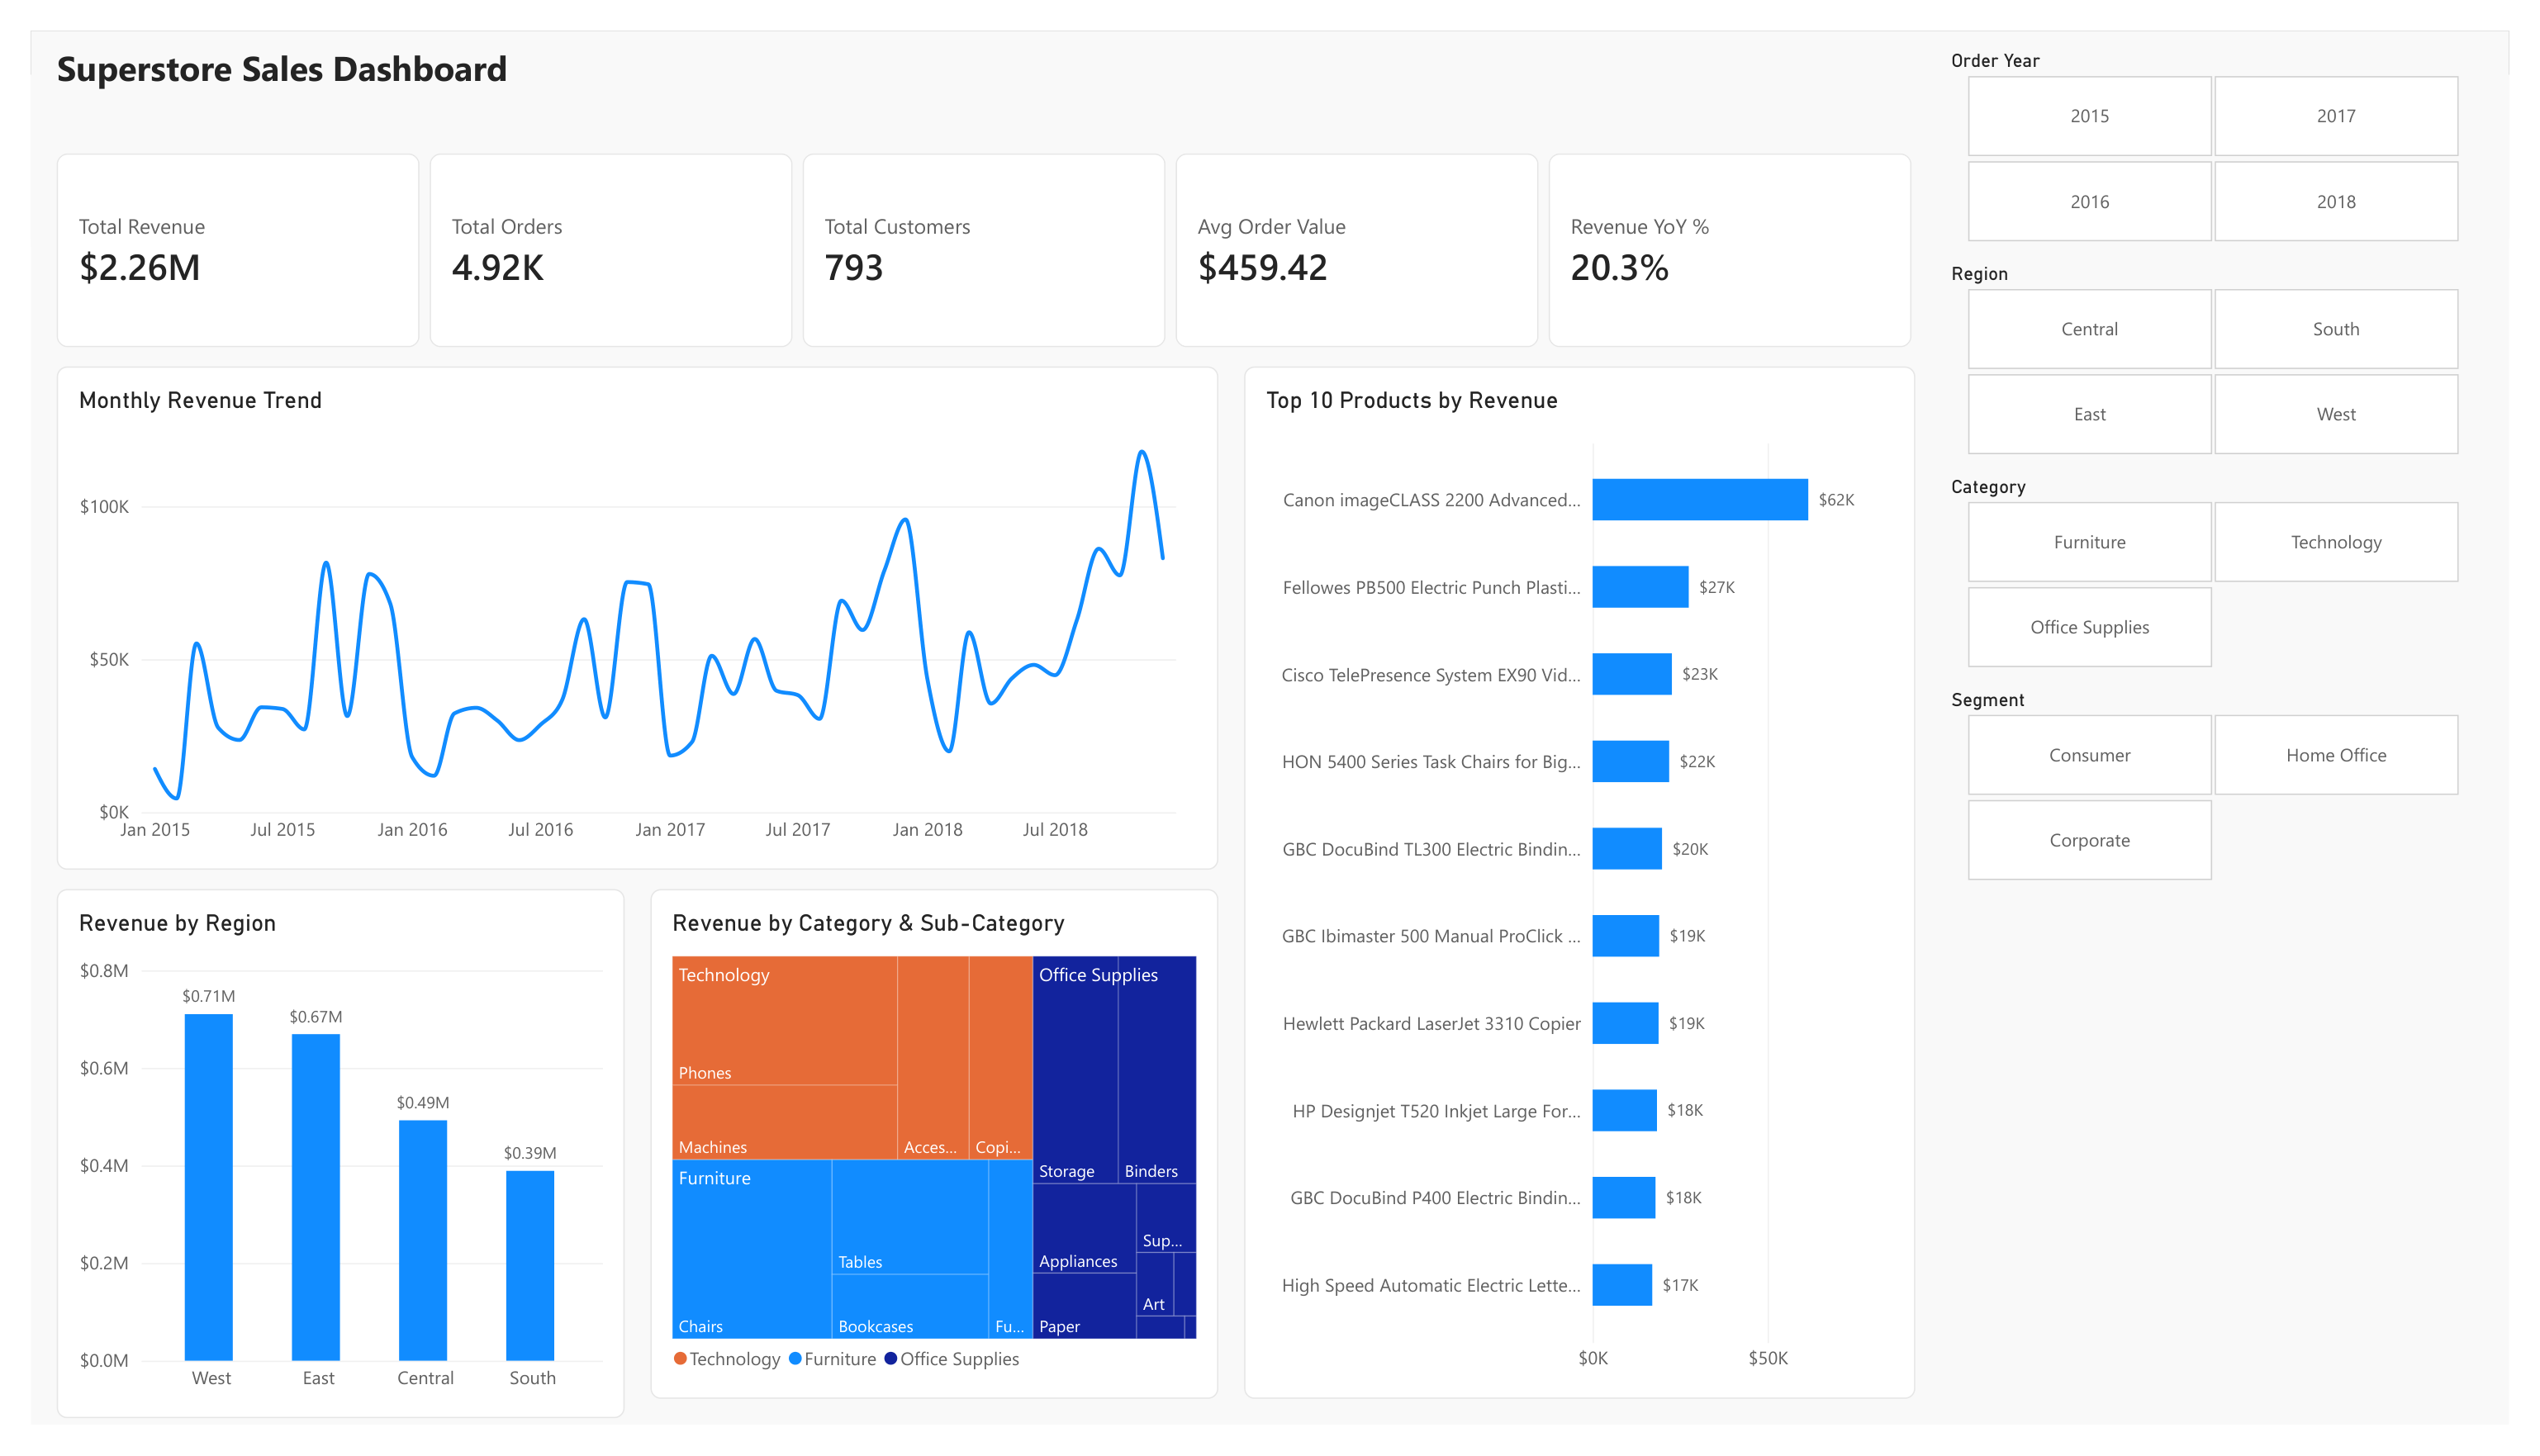

Layout of this report page (visuals, bound fields, positions):
{"tool":"powerbi","page":{"name":"Page 1","canvas":[1920,1080],"ordinal":0},"visuals":[{"type":"cardVisual","fields":{"Data":["Sales.Total Revenue","Sales.Total Orders","Sales.Total Customers","Sales.Avg Order Value","Sales.Revenue YoY %"]},"box":[20,95,1440,150],"z":0},{"type":"slicer","fields":{"Values":["Sales.Order Year"]},"box":[1480,15,420,150],"z":1000},{"type":"slicer","fields":{"Values":["Sales.Region"]},"box":[1480,180,420,150],"z":2000},{"type":"slicer","fields":{"Values":["Sales.Category"]},"box":[1480,345,420,150],"z":3000},{"type":"slicer","fields":{"Values":["Sales.Segment"]},"box":[1480,510,420,150],"z":4000},{"type":"lineChart","title":"Monthly Revenue Trend","fields":{"Category":["Sales.Order Month"],"Y":["Sales.Total Revenue"]},"box":[20,260,900,390],"z":5000},{"type":"clusteredBarChart","title":"Top 10 Products by Revenue","fields":{"Category":["Sales.Product Name"],"Y":["Sales.Total Revenue"]},"box":[940,260,520,800],"z":6000},{"type":"clusteredColumnChart","title":"Revenue by Region","fields":{"Category":["Sales.Region"],"Y":["Sales.Total Revenue"]},"box":[20,665,440,410],"z":7000},{"type":"treemap","title":"Revenue by Category & Sub-Category","fields":{"Details":["Sales.Sub-Category"],"Group":["Sales.Category"],"Values":["Sales.Total Revenue"]},"box":[480,665,440,395],"z":7001},{"type":"textbox","box":[20,10,1440,75],"z":7002}]}

Visuals, with their boxes on the page's 1920x1080 design canvas (x1, y1, x2, y2). These are canvas units, not pixel positions in the 2540x1456 screenshot, which may show the page scaled, cropped or inside an application window:
cardVisual - Sales.Total Revenue x Sales.Total Orders: {"left": 20, "top": 95, "right": 1460, "bottom": 245}
slicer - Sales.Order Year: {"left": 1480, "top": 15, "right": 1900, "bottom": 165}
slicer - Sales.Region: {"left": 1480, "top": 180, "right": 1900, "bottom": 330}
slicer - Sales.Category: {"left": 1480, "top": 345, "right": 1900, "bottom": 495}
slicer - Sales.Segment: {"left": 1480, "top": 510, "right": 1900, "bottom": 660}
"Monthly Revenue Trend" lineChart: {"left": 20, "top": 260, "right": 920, "bottom": 650}
"Top 10 Products by Revenue" clusteredBarChart: {"left": 940, "top": 260, "right": 1460, "bottom": 1060}
"Revenue by Region" clusteredColumnChart: {"left": 20, "top": 665, "right": 460, "bottom": 1075}
"Revenue by Category & Sub-Category" treemap: {"left": 480, "top": 665, "right": 920, "bottom": 1060}
textbox: {"left": 20, "top": 10, "right": 1460, "bottom": 85}
